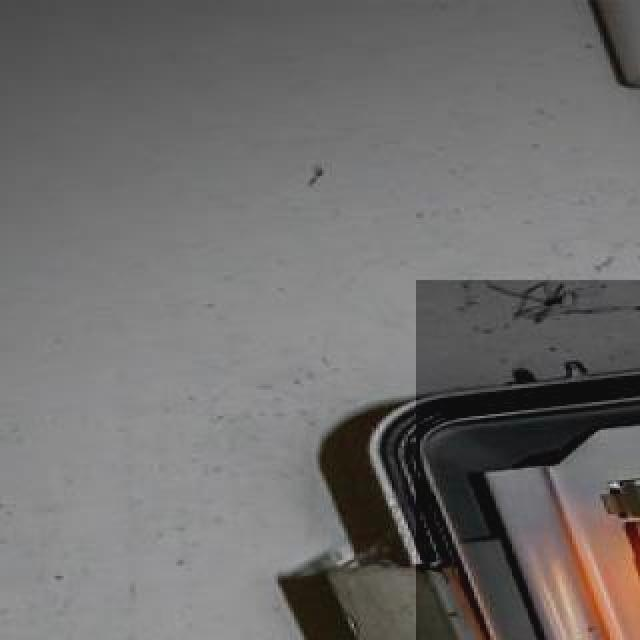fluorescent tube: (584, 432, 640, 640)
